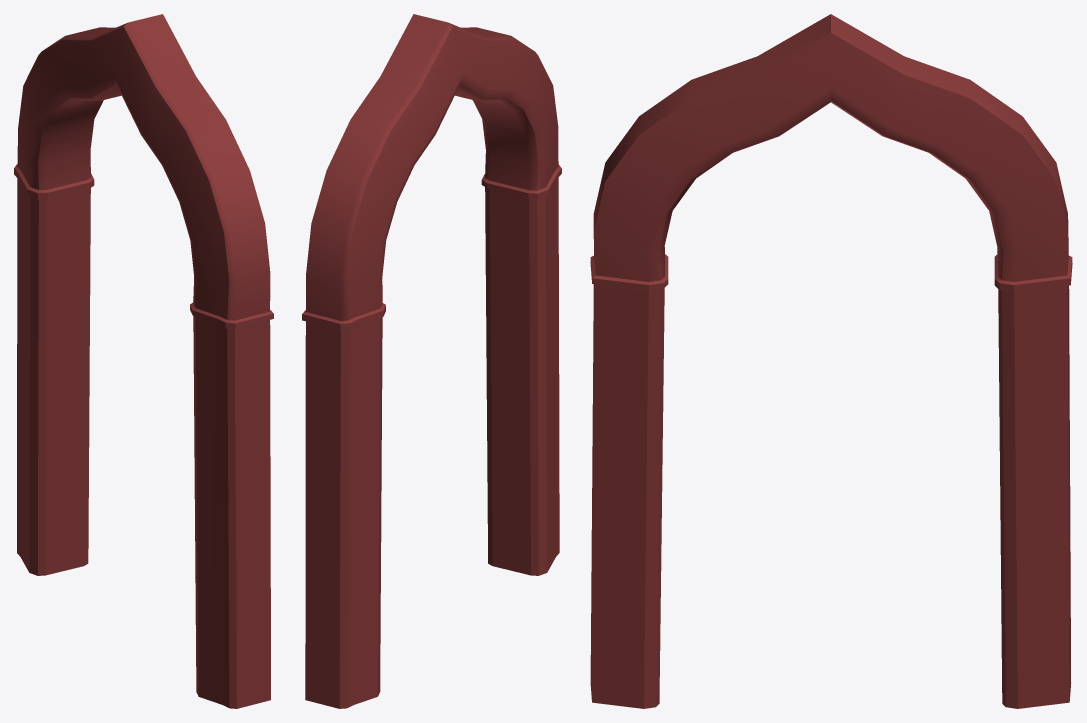
Rendered from Valv.fbx.
3 renders of one model, left to right at view 1: azimuth 30°, elevation 25°; view 2: azimuth 150°, elevation 25°; view 3: azimuth 270°, elevation 25°, orthographic. The views are drawn at different scales.
Visible parts, largest first — view 1: pCylinder12; view 2: pCylinder12; view 3: pCylinder12.
Part boxes in pixels (x1=…): pCylinder12: x1=14, y1=14, x2=273, y2=708; pCylinder12: x1=302, y1=14, x2=561, y2=708; pCylinder12: x1=590, y1=14, x2=1072, y2=708.
Bounding box in the file's own units: 34.26 × 312 × 203.
